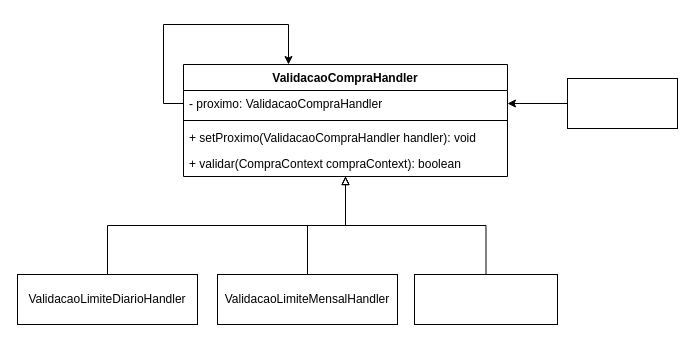
The diagram is 695 pixels wide and 342 high, and some of its shapes have lost their labels. Here are the shapes that lost their labels. From the top down, the box of each, then its label:
(566, 78, 678, 128): CompraService
(414, 274, 558, 324): ValidacaoSaldoHandler
